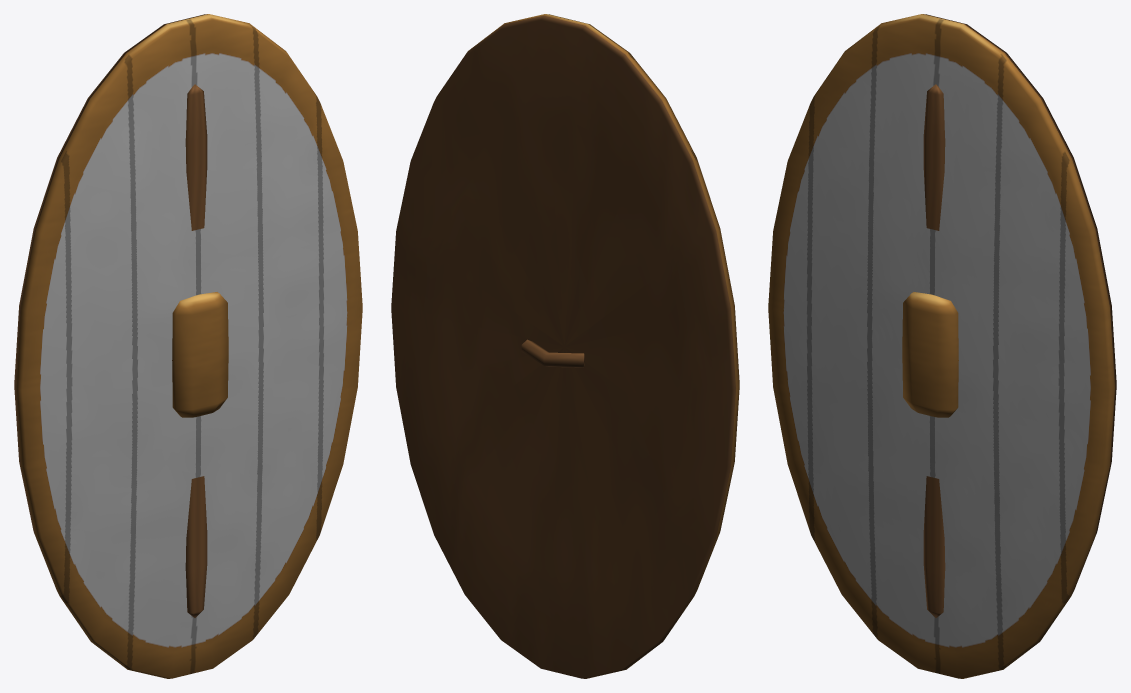
Rendered from bouclier-celte.glb.
The picture shows the model from 3 angles, left to right: view 1: azimuth 30°, elevation 25°; view 2: azimuth 150°, elevation 25°; view 3: azimuth 330°, elevation 25°; orthographic projection.
Visible parts, largest first — view 1: bouclier-celte; view 2: bouclier-celte; view 3: bouclier-celte.
Part boxes in pixels (box(x1,y1,x2,y2)): bouclier-celte: box(14, 14, 362, 678); bouclier-celte: box(391, 14, 739, 678); bouclier-celte: box(768, 14, 1116, 678).
Size of the model in its own units: 0.606 by 1.1 by 0.1189.
Materials: 1 (1 with a texture image).
